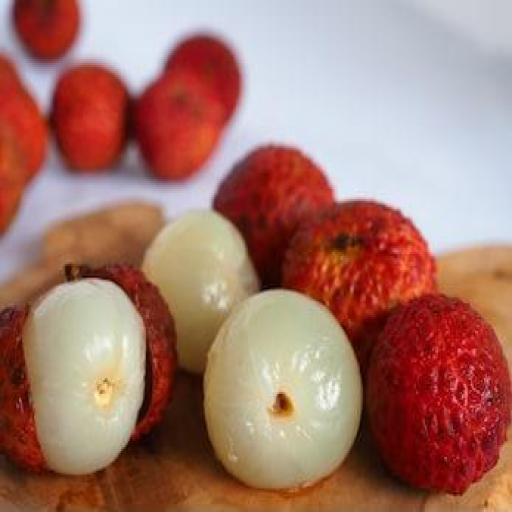lychee: (0, 262, 174, 474), (207, 290, 363, 492), (366, 294, 512, 496), (280, 195, 440, 335), (140, 215, 260, 372), (211, 144, 333, 293)
